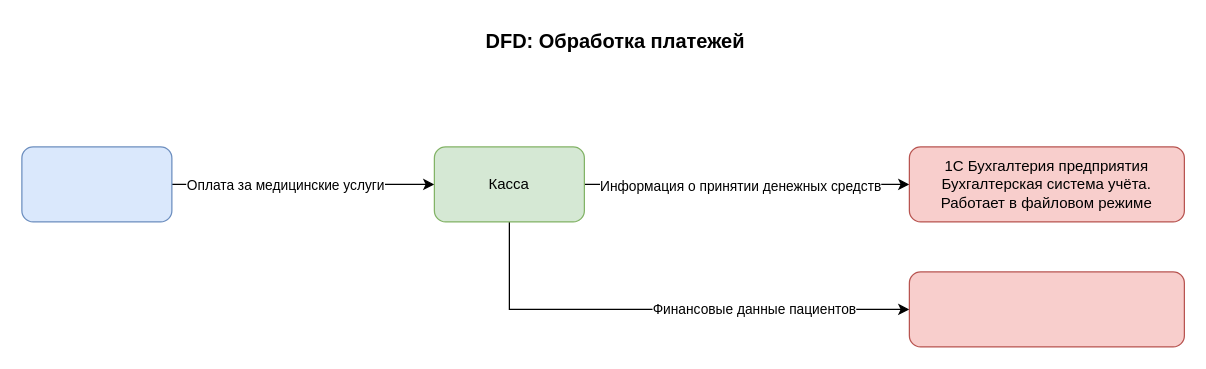
Some shapes in this 1206 by 369 pixel diagram are drawn without their labels. Each missing label, with the centre of its shape:
"Excel-файл с платежами" belongs at point 1046,309.
"Пациент" belongs at point 96,184.
